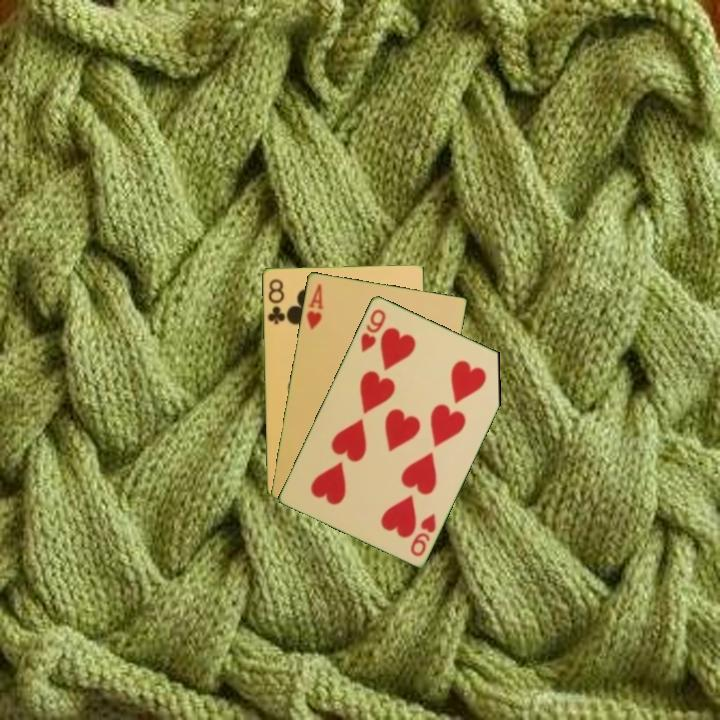8c: (264, 275, 288, 327)
9h: (406, 509, 439, 559), (357, 305, 389, 355)
Ah: (303, 280, 326, 332)
